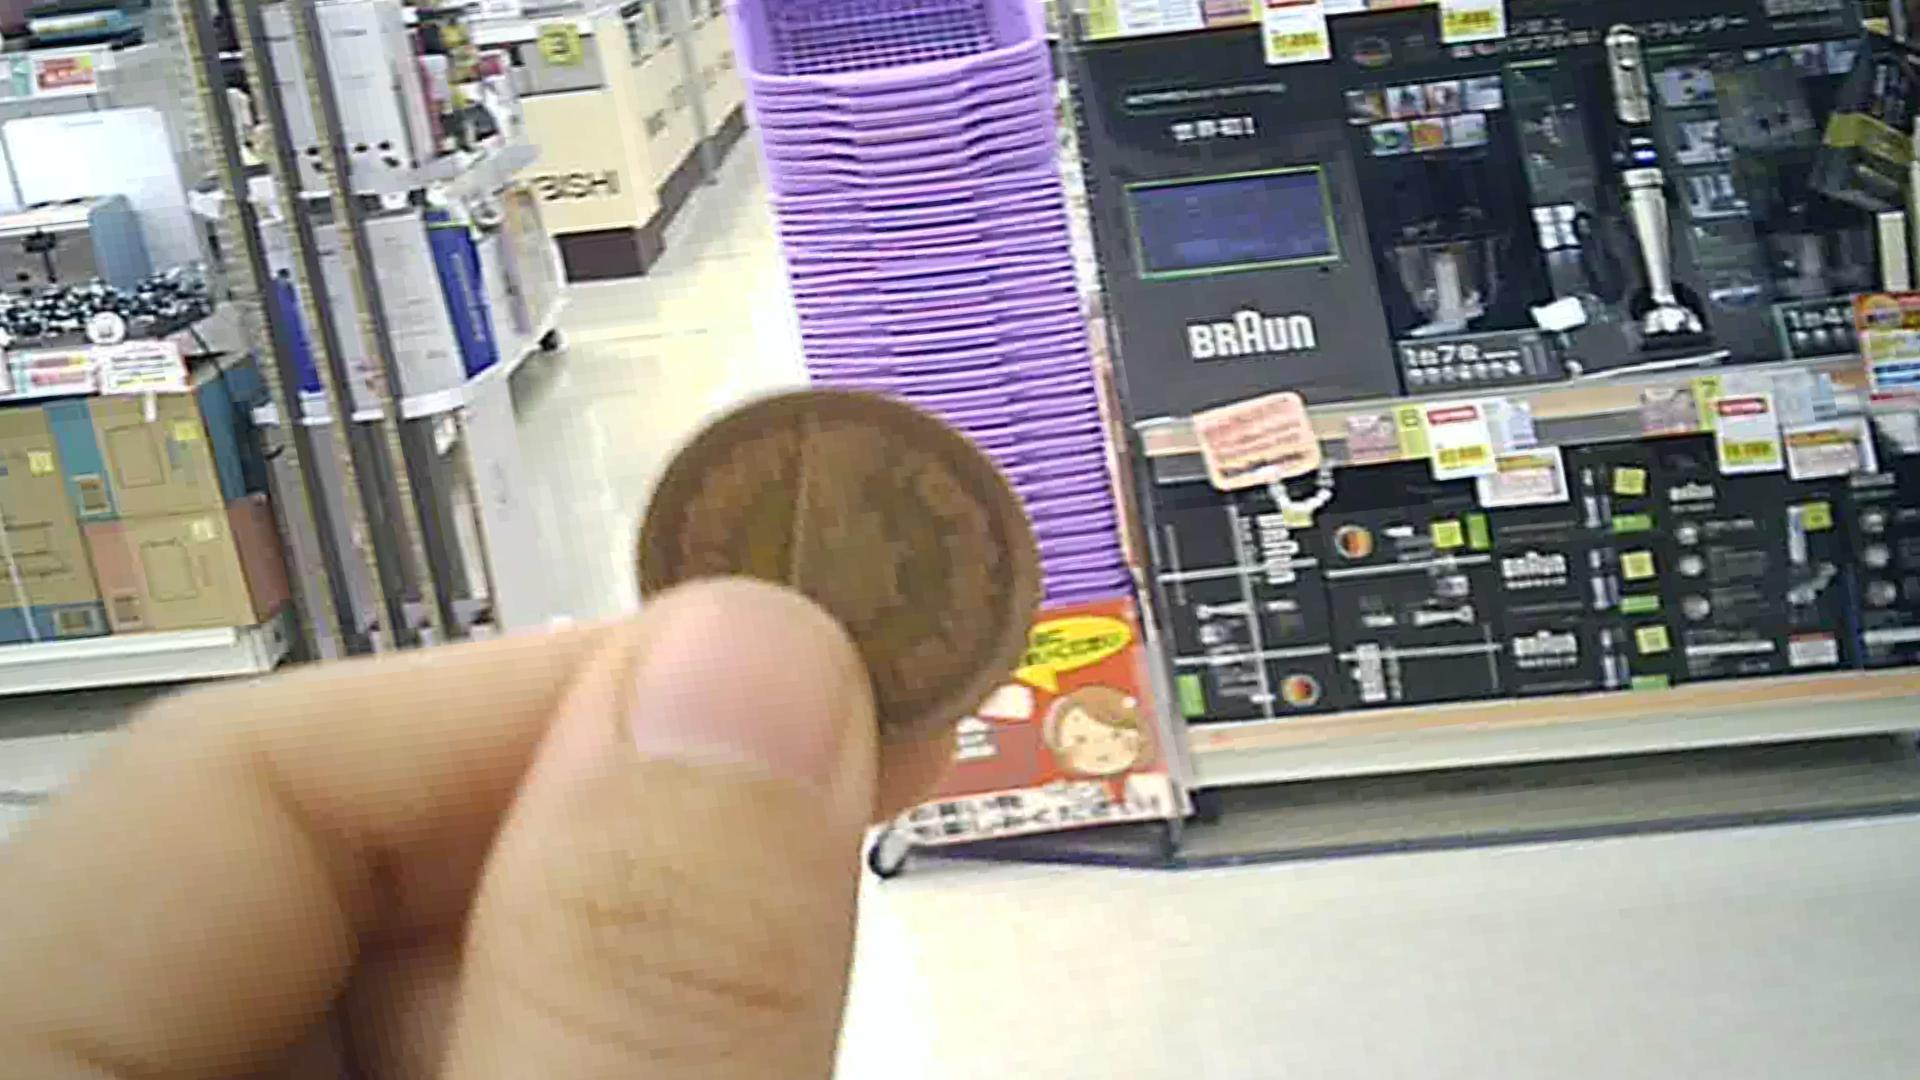10 Yen: (632, 385, 1019, 746)
